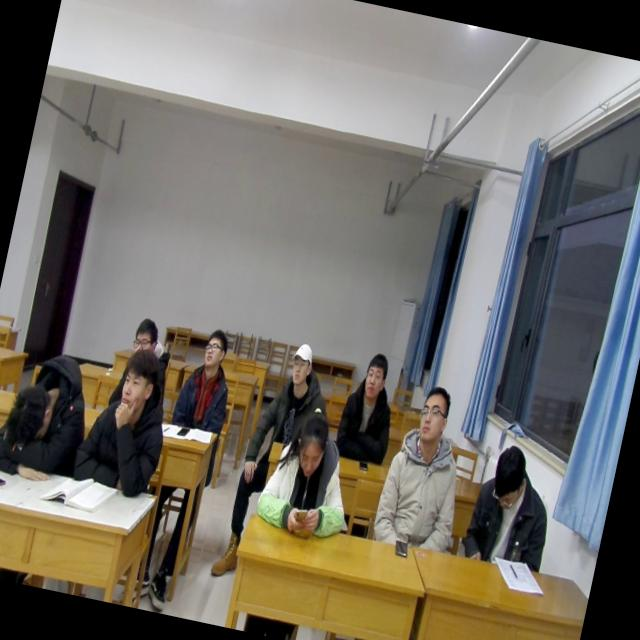bow: (0, 337, 103, 491)
down: (480, 433, 536, 515), (284, 403, 334, 486)
lookup: (110, 340, 162, 426), (409, 378, 457, 448), (282, 332, 321, 390), (355, 346, 393, 404), (124, 310, 162, 360), (193, 324, 230, 374)
sit: (62, 332, 184, 508), (368, 376, 483, 562), (250, 394, 370, 548), (457, 432, 567, 577), (256, 334, 340, 449), (328, 348, 408, 468), (168, 322, 244, 435), (116, 314, 177, 389)
